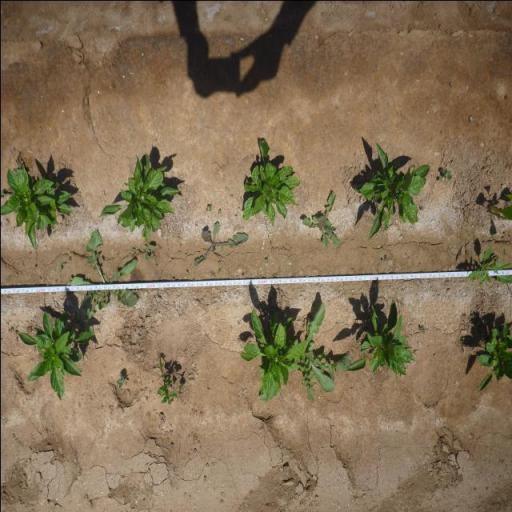plant: (352, 137, 431, 242), (99, 150, 181, 242), (15, 306, 92, 402), (237, 304, 304, 402), (0, 164, 75, 250), (347, 295, 415, 377), (242, 134, 300, 228), (475, 319, 512, 394)
weed: (68, 228, 138, 326), (303, 300, 349, 402), (192, 220, 250, 266), (301, 190, 341, 248), (154, 352, 186, 408), (468, 246, 512, 286), (437, 166, 453, 184), (114, 371, 129, 389), (142, 242, 154, 261), (56, 261, 68, 272), (491, 254, 502, 262), (418, 324, 426, 334), (204, 203, 212, 212), (461, 336, 467, 347), (130, 246, 140, 252), (418, 204, 425, 212), (380, 254, 387, 262), (208, 269, 215, 277), (262, 256, 269, 262), (7, 326, 13, 333), (66, 255, 72, 261), (240, 272, 244, 278), (185, 269, 188, 276), (217, 207, 220, 213), (216, 260, 220, 264)
